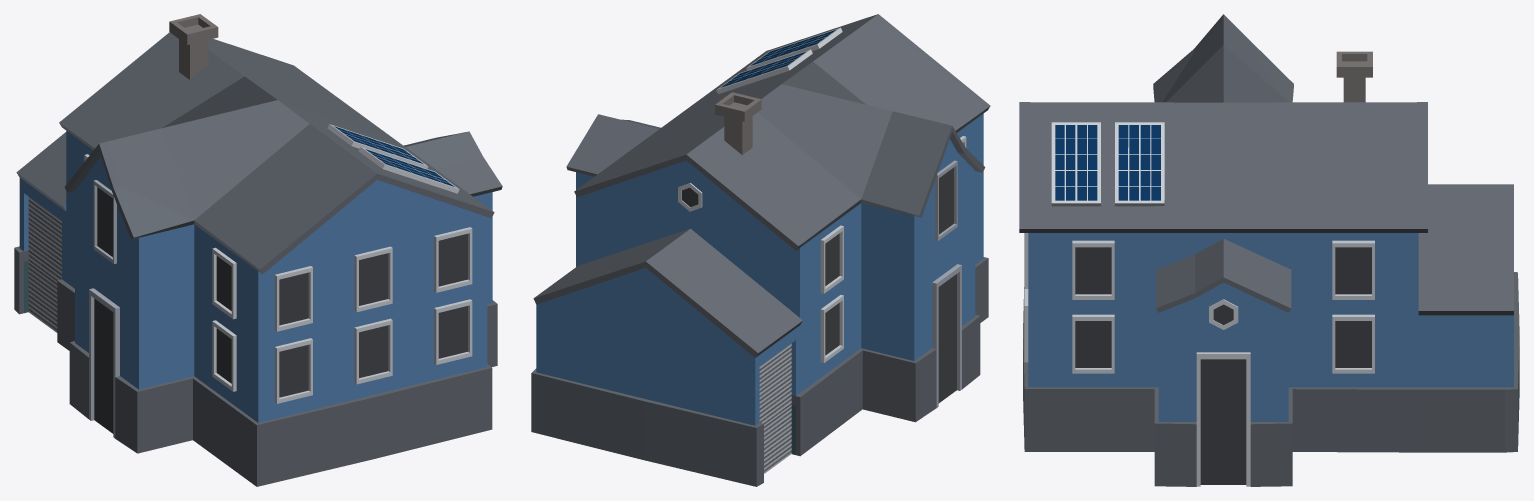
File: Building_House_01.fbx
3 views of the same model, side by side, from view 1: azimuth 30°, elevation 25°; view 2: azimuth 150°, elevation 25°; view 3: azimuth 270°, elevation 25° (orthographic). The views are drawn at different scales.
Visible parts, largest first — view 1: Building_House_01; view 2: Building_House_01; view 3: Building_House_01.
Boxes of the visible parts, <box> form: Building_House_01: <box>14,14,502,486</box>; Building_House_01: <box>531,14,990,486</box>; Building_House_01: <box>1019,14,1519,486</box>.
Size of the model in its own units: 1128 by 931 by 1298.
